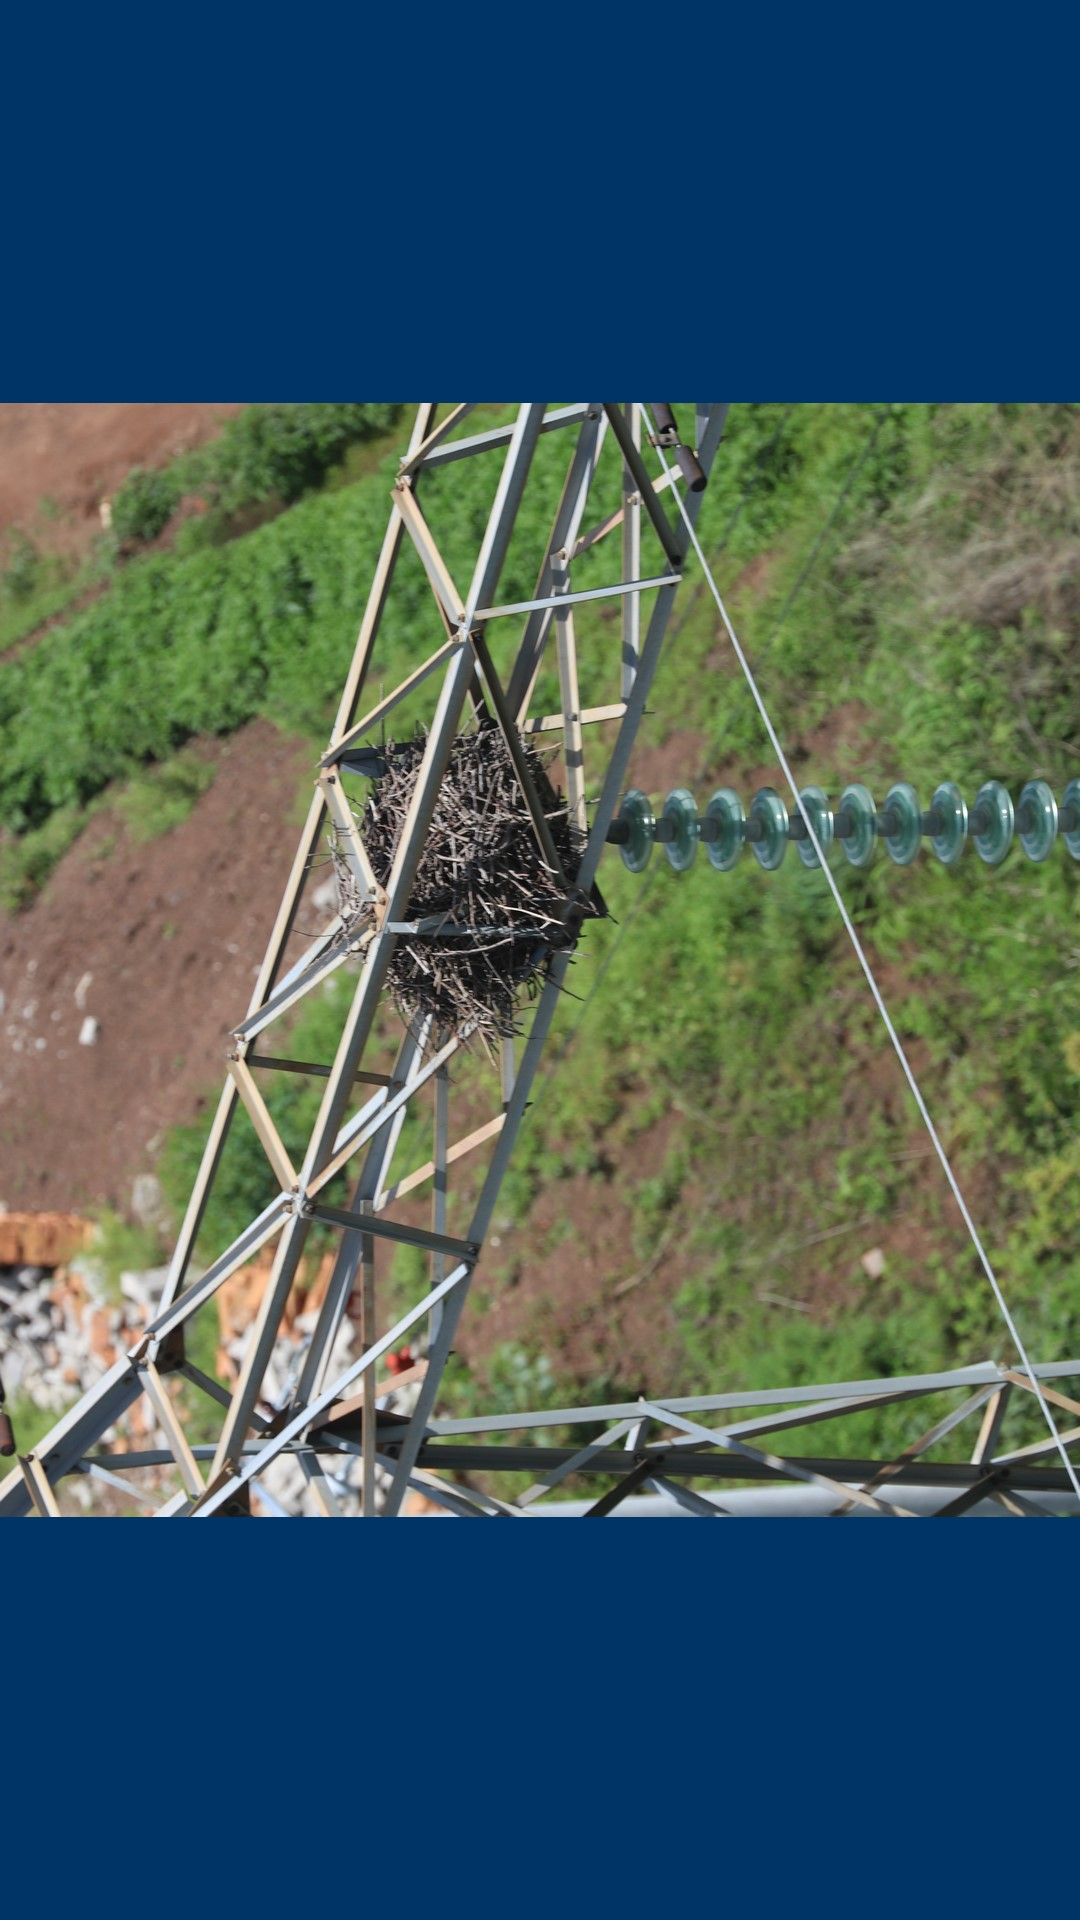niaowo: (311, 716, 632, 1044)
